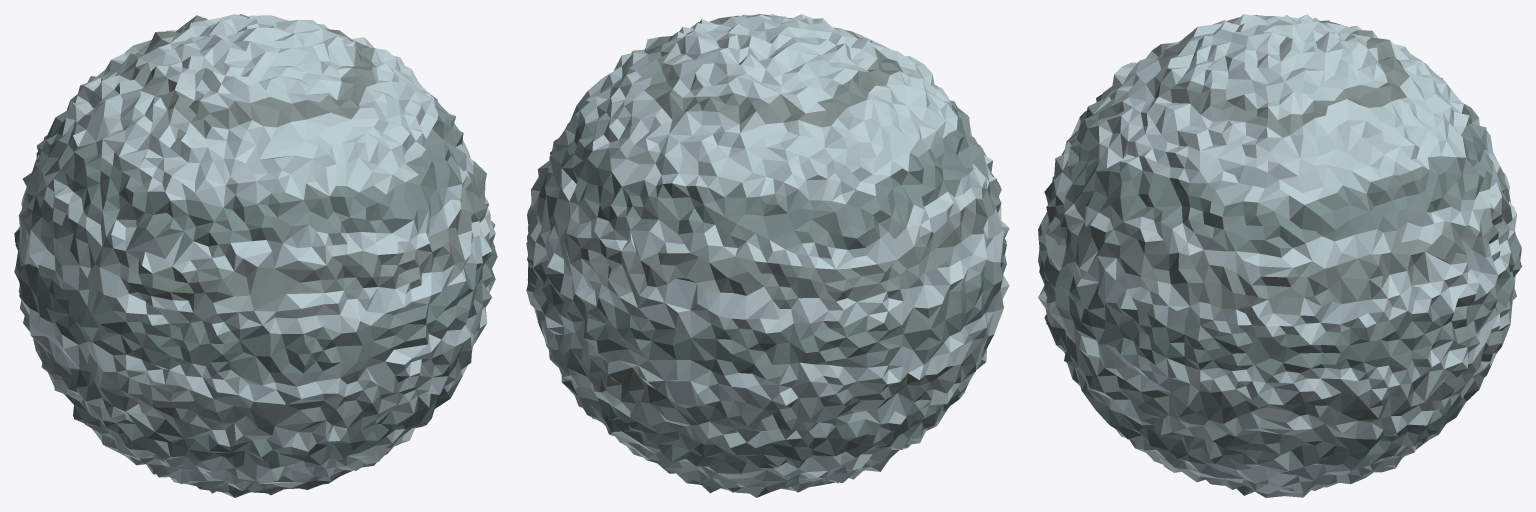
File: mercury0.fbx
The picture shows the model from 3 angles, left to right: view 1: azimuth 30°, elevation 25°; view 2: azimuth 150°, elevation 25°; view 3: azimuth 270°, elevation 25°; orthographic projection.
Parts seen in each view (by area): view 1: Icosphere; view 2: Icosphere; view 3: Icosphere.
Boxes of the visible parts, x1,y1,x2,y2 form: Icosphere: (14, 14, 497, 497); Icosphere: (526, 14, 1009, 497); Icosphere: (1038, 14, 1521, 497).
Bounding box in the file's own units: 206 × 208 × 207.
